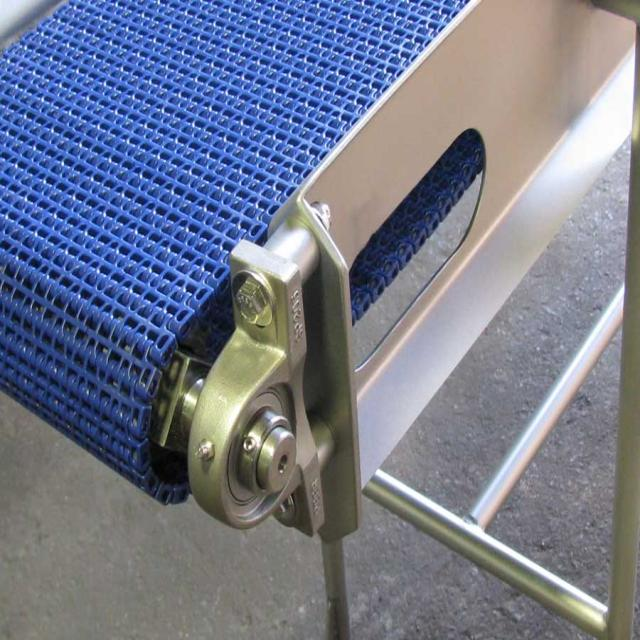conveyor: (0, 2, 630, 557)
